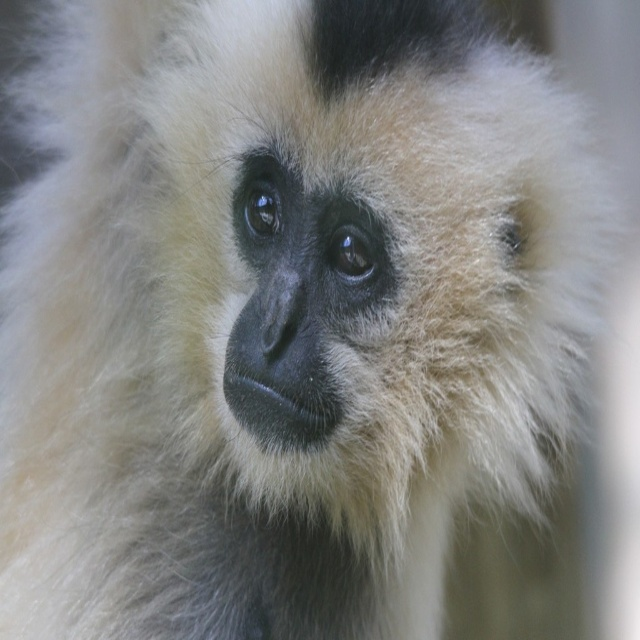Monkey: (0, 0, 632, 619)
